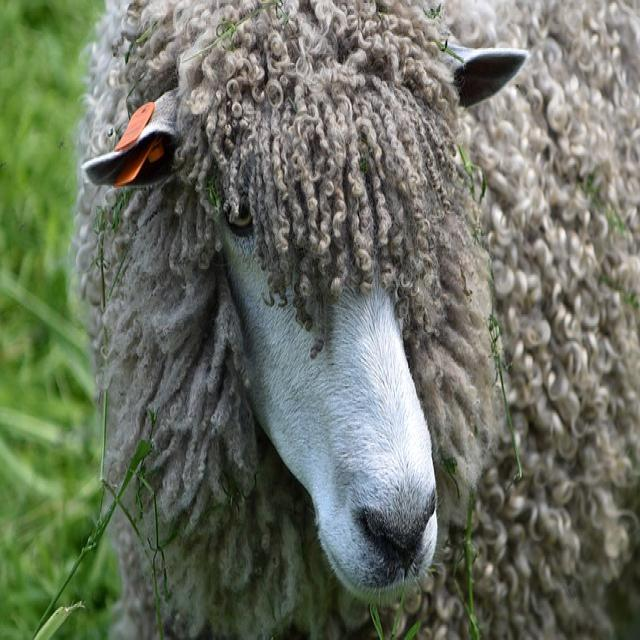goat: (67, 0, 640, 640)
